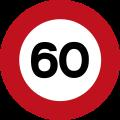Speed Limit -60-: (29, 38, 91, 80)
